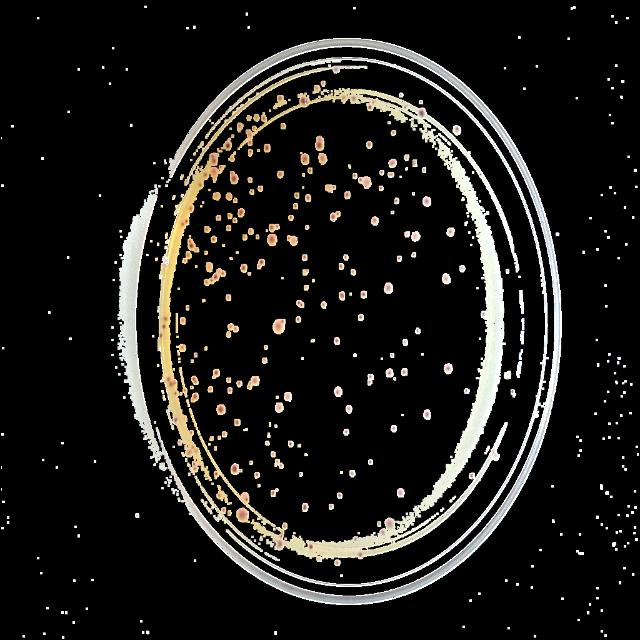colony: (273, 320, 285, 334), (237, 508, 250, 520), (229, 463, 239, 475), (266, 234, 276, 246), (442, 273, 452, 285), (384, 282, 394, 294), (363, 177, 372, 189), (315, 141, 325, 151), (384, 520, 396, 528), (301, 152, 309, 164), (319, 153, 327, 165), (217, 404, 226, 414), (300, 96, 310, 105), (412, 232, 421, 242), (444, 362, 452, 373), (242, 492, 250, 502), (275, 402, 283, 412), (230, 174, 238, 184), (208, 167, 218, 175), (224, 140, 232, 150), (246, 130, 254, 140), (453, 125, 461, 135), (388, 160, 398, 168), (423, 197, 431, 207), (386, 368, 394, 378), (397, 488, 405, 498), (276, 538, 284, 548), (284, 392, 292, 402), (335, 387, 343, 397), (212, 369, 220, 378), (205, 262, 212, 272), (238, 208, 245, 218), (424, 409, 431, 419), (252, 377, 260, 385), (178, 344, 186, 352), (212, 272, 220, 280), (213, 192, 221, 200), (264, 144, 272, 152), (260, 114, 268, 122), (344, 192, 352, 200), (447, 228, 455, 236), (379, 528, 387, 536), (346, 405, 352, 415), (192, 392, 198, 402), (291, 236, 297, 246), (278, 170, 284, 180), (330, 212, 336, 222), (349, 268, 356, 276), (334, 337, 341, 345), (324, 185, 332, 192), (419, 109, 425, 118), (402, 368, 408, 377), (234, 418, 240, 426), (337, 492, 343, 500), (228, 386, 234, 394), (236, 380, 242, 388), (180, 317, 186, 325), (226, 294, 232, 302), (241, 264, 247, 272), (226, 193, 232, 201), (269, 224, 275, 232), (302, 254, 308, 262), (305, 194, 311, 202), (212, 157, 218, 165), (238, 122, 244, 130), (253, 114, 259, 122), (316, 135, 324, 141), (390, 130, 398, 136), (404, 154, 410, 162), (412, 159, 418, 167), (372, 216, 378, 224), (396, 255, 402, 263), (459, 265, 465, 273), (343, 253, 349, 261), (339, 263, 345, 271), (339, 292, 345, 300), (358, 314, 364, 322), (415, 327, 421, 335), (402, 338, 408, 346), (391, 425, 397, 433), (356, 552, 364, 558), (334, 560, 342, 566), (282, 522, 288, 530), (302, 504, 308, 511), (188, 243, 195, 249), (248, 228, 254, 235), (257, 185, 263, 192), (314, 85, 320, 92), (254, 472, 260, 478), (270, 490, 276, 496), (216, 492, 222, 498), (192, 466, 198, 472), (207, 386, 213, 392), (262, 358, 268, 364), (232, 326, 238, 332), (226, 332, 232, 338), (186, 252, 192, 258), (260, 260, 266, 266), (220, 270, 226, 276), (204, 280, 210, 286), (242, 235, 248, 241), (304, 224, 310, 230), (294, 193, 300, 199), (281, 123, 287, 129), (277, 95, 283, 101), (333, 67, 339, 73), (398, 92, 404, 98), (367, 142, 373, 148), (388, 172, 394, 178), (379, 186, 385, 192), (411, 252, 417, 258), (321, 302, 327, 308), (296, 316, 302, 322), (368, 374, 374, 380), (367, 379, 373, 385), (368, 459, 374, 465), (307, 167, 313, 173), (271, 450, 275, 458), (344, 428, 348, 436), (350, 470, 354, 478), (330, 502, 334, 510), (188, 448, 192, 456), (185, 304, 189, 312), (212, 236, 216, 244), (290, 214, 294, 222), (248, 149, 252, 157), (359, 176, 363, 184), (362, 291, 366, 299), (482, 310, 486, 318), (228, 324, 232, 331), (206, 225, 210, 232), (342, 95, 346, 102), (512, 389, 516, 396), (223, 431, 227, 437), (214, 471, 218, 477), (289, 441, 293, 447), (266, 440, 270, 446), (178, 440, 182, 446), (174, 417, 178, 423), (222, 507, 226, 513), (191, 444, 195, 450), (228, 510, 232, 516), (166, 376, 170, 382), (168, 380, 172, 386), (191, 376, 195, 382), (226, 378, 232, 382), (264, 344, 268, 350), (280, 320, 286, 324), (211, 278, 215, 284), (216, 216, 222, 220), (228, 213, 232, 219), (234, 198, 238, 204), (256, 234, 260, 240), (275, 224, 279, 230), (303, 270, 309, 274), (294, 203, 298, 209), (250, 189, 254, 195), (188, 204, 192, 210), (199, 182, 203, 188), (248, 177, 252, 183), (230, 156, 234, 162), (248, 140, 252, 146), (247, 115, 251, 121), (320, 81, 326, 85), (352, 95, 356, 101), (368, 104, 372, 110), (422, 167, 426, 173), (380, 170, 384, 176), (395, 197, 399, 203), (303, 286, 309, 290), (390, 353, 394, 359), (309, 543, 313, 549), (299, 472, 303, 478), (336, 211, 340, 217), (302, 172, 306, 178), (348, 164, 352, 170), (464, 388, 470, 392), (208, 436, 214, 440), (204, 250, 208, 256), (190, 430, 193, 436), (195, 448, 198, 454), (205, 172, 208, 178), (249, 461, 253, 465), (280, 464, 284, 468), (192, 462, 196, 466), (183, 388, 187, 392), (163, 316, 167, 320), (183, 258, 187, 262), (195, 248, 199, 252), (257, 265, 261, 269), (227, 226, 231, 230), (216, 268, 220, 272), (233, 218, 237, 222), (288, 234, 290, 242), (181, 222, 185, 226), (185, 220, 189, 224), (230, 171, 234, 175), (210, 154, 214, 158), (372, 100, 376, 104), (353, 174, 357, 178), (296, 300, 300, 304), (300, 304, 304, 308), (393, 377, 397, 381), (470, 474, 474, 478), (377, 522, 381, 526), (390, 540, 394, 544), (353, 537, 357, 541), (332, 185, 336, 189), (175, 391, 178, 395), (194, 381, 198, 384), (195, 353, 198, 357), (162, 324, 165, 328), (252, 126, 255, 130), (403, 105, 407, 108), (205, 346, 208, 350), (218, 436, 220, 440), (214, 447, 216, 451), (274, 464, 278, 466), (174, 380, 176, 384), (190, 385, 192, 389), (248, 384, 250, 388), (188, 238, 190, 242), (420, 100, 422, 104), (258, 484, 260, 488), (276, 488, 278, 492), (248, 272, 250, 276), (190, 360, 193, 362), (202, 300, 205, 302), (276, 460, 278, 462), (250, 382, 252, 384), (160, 334, 162, 336), (220, 166, 222, 168), (222, 244, 224, 246), (236, 251, 238, 253), (230, 257, 232, 259)
